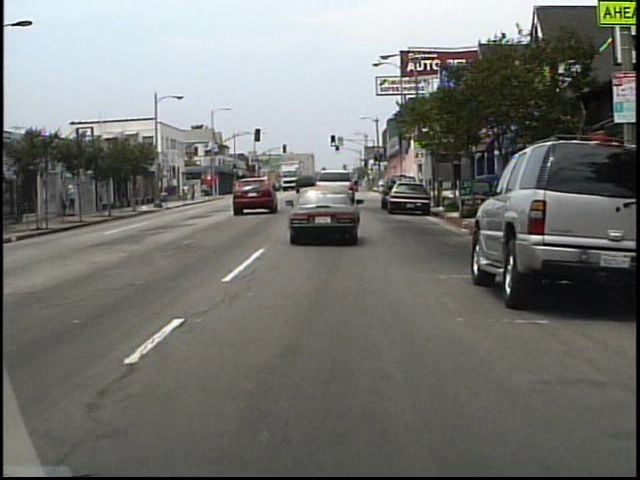person: (68, 183, 81, 216)
